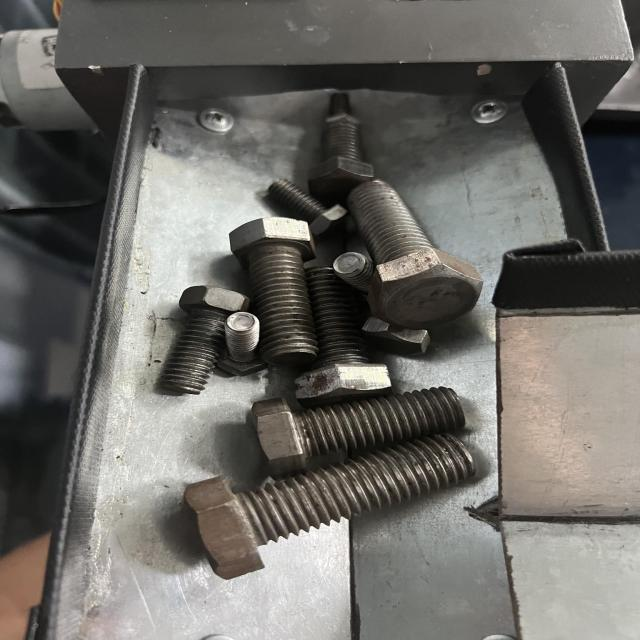bolt: (162, 433, 468, 579), (348, 177, 485, 330), (247, 391, 468, 462), (229, 213, 327, 363), (172, 278, 234, 394)
